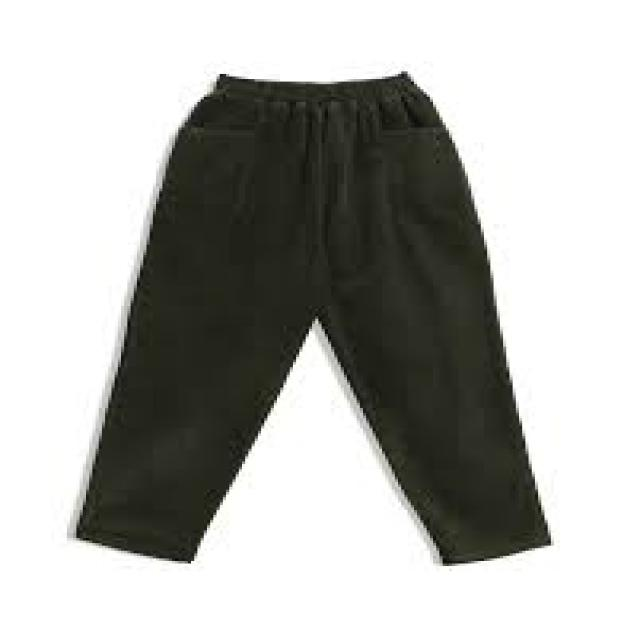pants: (77, 70, 555, 567)
